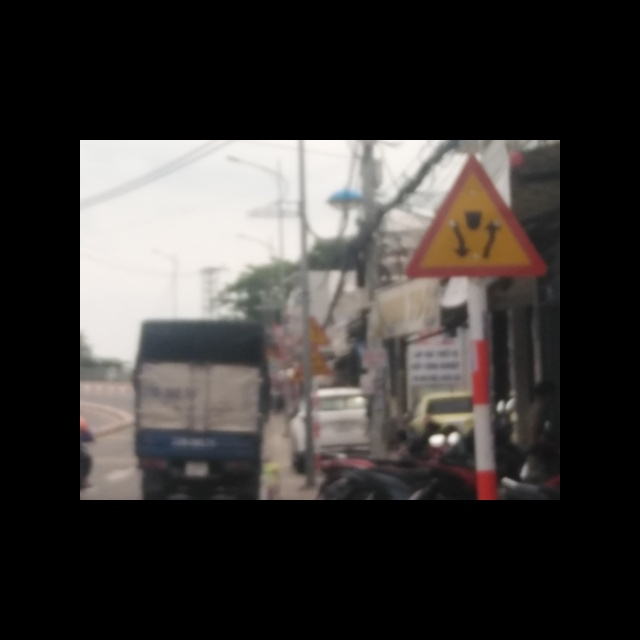Đường đôi: (406, 153, 543, 281)
